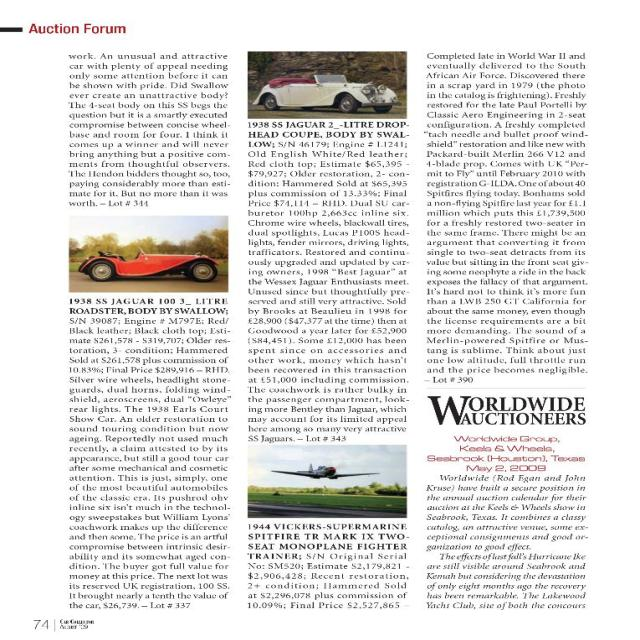car: (251, 74, 402, 112), (76, 246, 218, 281)
